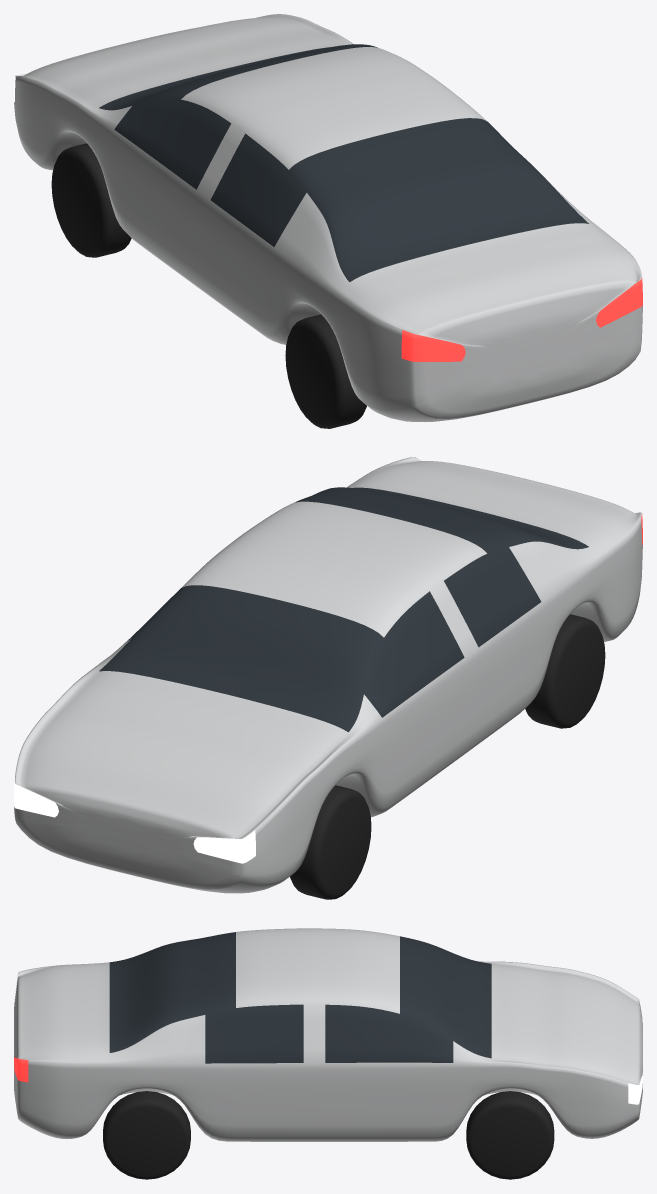
File: hud_car.glb
3 views of the same model, one above another, from view 1: azimuth 30°, elevation 25°; view 2: azimuth 150°, elevation 25°; view 3: azimuth 270°, elevation 25° (orthographic). The views are drawn at different scales.
Parts seen in each view (by area): view 1: hud_car; view 2: hud_car; view 3: hud_car.
Part boxes in pixels (x1,y1,x2,y2): hud_car: [14, 14, 642, 428]; hud_car: [14, 457, 642, 899]; hud_car: [14, 928, 642, 1179].
Bounding box in the file's own units: 1.82 × 1.43 × 4.71.
